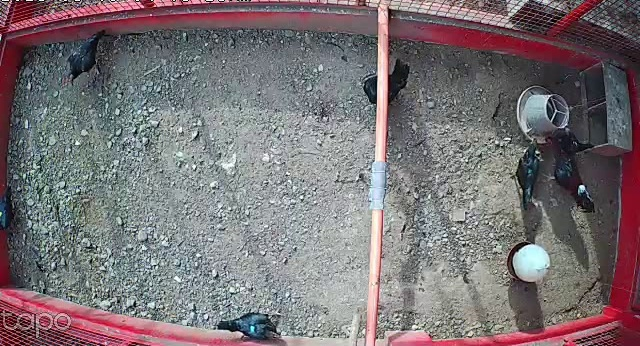Chicken: (358, 56, 413, 116), (64, 27, 109, 88), (218, 305, 288, 344), (508, 135, 542, 210), (541, 122, 596, 157), (0, 185, 24, 233)
Rooster: (539, 148, 598, 215)
Saddle_Color_Blue: (249, 324, 256, 332)
